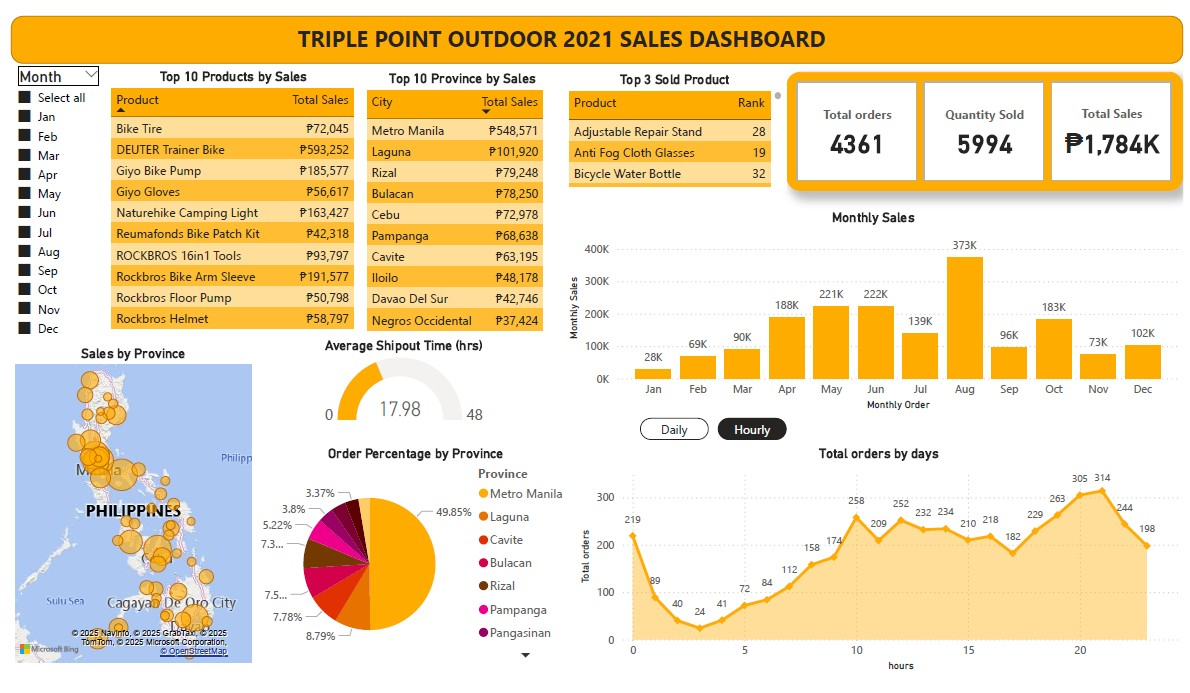

This screenshot's page, from the dashboard's own definition file:
{"tool":"powerbi","page":{"name":"Page 1","canvas":[1280,720],"ordinal":0},"visuals":[{"type":"slicer","title":"ADDDADF","fields":{"Values":["New folder (2).Monthly Order"]},"box":[0,54,104,300],"z":0},{"type":"pieChart","title":"Order Percentage by Province","fields":{"Category":["New folder (2).City"],"Y":["New folder (2).Number of orders"]},"box":[268,470,349,241],"z":1000},{"type":"tableEx","title":"Top 10 Province by Sales","fields":{"Values":["New folder (2).City","New folder (2).TOTAL SALES"]},"box":[383,60,221,304],"z":2000},{"type":"tableEx","title":"Top 10 Products by Sales","fields":{"Values":["New folder (2).Product","New folder (2).TOTAL SALES"]},"box":[104,58,279,292],"z":3000},{"type":"areaChart","title":"Total orders by days","fields":{"Category":["New folder (2).hours"],"Y":["New folder (2).Number of orders"]},"box":[617,470,663,250],"z":4000},{"type":"gauge","title":"Average Shipout Time (hrs)","fields":{"MinValue":["New folder (2).min shipout date"],"MaxValue":["New folder (2).max shipout time"],"Y":["New folder (2).average shipout time"]},"box":[300,352,258,99],"z":5000},{"type":"clusteredColumnChart","title":"Monthly Sales","fields":{"Y":["New folder (2).MONTH SALES"],"Category":["New folder (2).Monthly Order"]},"box":[604,212,676,223],"z":6500},{"type":"map","title":"Sales by Province","fields":{"Category":["New folder (2).City"],"Size":["New folder (2).Total Sales"]},"box":[0,360,268,351],"z":7000},{"type":"bookmarkNavigator","box":[687,439,160,24],"z":10000},{"type":"shape","box":[0,0,1280,52],"z":10500},{"type":"cardVisual","fields":{"Data":["New folder (2).Total orders","New folder (2).Quantity Sold","New folder (2).Total Sales"]},"box":[847,61,433,130],"z":11000},{"type":"textbox","box":[308,3,664,45],"z":14000},{"type":"tableEx","title":"Top 3 Sold Product","fields":{"Values":["New folder (2).Product","New folder (2).Top Product"]},"box":[604,61,243,130],"z":15000}]}

Visuals, with their boxes on the page's 1280x720 design canvas (x1, y1, x2, y2). These are canvas units, not pixel positions in the 1190x693 screenshot, which may show the page scaled, cropped or inside an application window:
"ADDDADF" slicer: Rect(0, 54, 104, 354)
"Order Percentage by Province" pieChart: Rect(268, 470, 617, 711)
"Top 10 Province by Sales" tableEx: Rect(383, 60, 604, 364)
"Top 10 Products by Sales" tableEx: Rect(104, 58, 383, 350)
"Total orders by days" areaChart: Rect(617, 470, 1280, 720)
"Average Shipout Time (hrs)" gauge: Rect(300, 352, 558, 451)
"Monthly Sales" clusteredColumnChart: Rect(604, 212, 1280, 435)
"Sales by Province" map: Rect(0, 360, 268, 711)
bookmarkNavigator: Rect(687, 439, 847, 463)
shape: Rect(0, 0, 1280, 52)
cardVisual - New folder (2).Total orders x New folder (2).Quantity Sold: Rect(847, 61, 1280, 191)
textbox: Rect(308, 3, 972, 48)
"Top 3 Sold Product" tableEx: Rect(604, 61, 847, 191)
